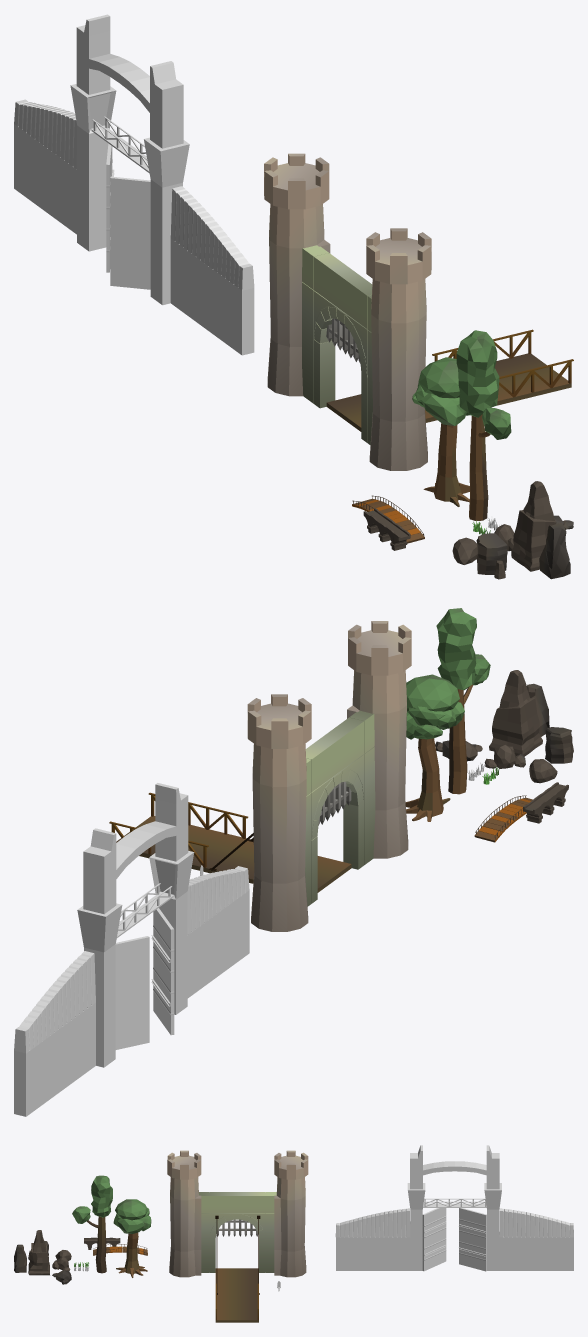
The model's file is AssetsV1.fbx.
3 views of the same model, one above another, from view 1: azimuth 30°, elevation 25°; view 2: azimuth 150°, elevation 25°; view 3: azimuth 270°, elevation 25° (orthographic). The views are drawn at different scales.
Parts seen in each view (by area): view 1: Cylinder, Cube.003, Cube.010, Cube, Cube.011, Plane.001, Icosphere.008, Plane, Cube.062, Cylinder.003, Cylinder.002, Cube.028 (+9 smaller); view 2: Cylinder, Cube.003, Cube.010, Cube, Cube.011, Plane.004, Plane, Cube.062, Icosphere.008, Plane.001, Icosphere, Cylinder.002 (+7 smaller); view 3: Cylinder, Cube.010, Cube.003, Cube, Cube.011, Plane, Plane.004, Plane.001, Icosphere.008, Cube.062, Icosphere, Cylinder.003 (+8 smaller).
Part boxes in pixels (x1,y1,x2,y2): Cylinder: [264, 153, 431, 470]; Cube.003: [70, 14, 189, 305]; Cube.010: [14, 124, 254, 355]; Cube: [302, 245, 372, 445]; Cube.011: [14, 99, 254, 290]; Plane.001: [110, 176, 150, 289]; Icosphere.008: [456, 330, 499, 417]; Plane: [326, 353, 571, 431]; Cube.062: [511, 481, 556, 571]; Cylinder.003: [469, 414, 488, 520]; Cylinder.002: [434, 423, 461, 501]; Cube.028: [432, 329, 573, 397]; Cylinder: [247, 621, 411, 931]; Cube.003: [77, 783, 194, 1067]; Cube.010: [14, 890, 249, 1116]; Cube: [305, 710, 375, 906]; Cube.011: [14, 866, 249, 1053]; Plane.004: [115, 936, 149, 1049]; Plane: [116, 816, 351, 892]; Cube.062: [489, 670, 542, 756]; Icosphere.008: [436, 608, 476, 690]; Plane.001: [151, 908, 174, 1035]; Icosphere: [406, 674, 459, 711]; Cylinder.002: [417, 738, 443, 816]; Cylinder: [167, 1150, 308, 1277]; Cube.010: [336, 1236, 573, 1270]; Cube.003: [407, 1145, 501, 1270]; Cube: [199, 1192, 276, 1272]; Cube.011: [335, 1208, 573, 1237]; Plane: [215, 1268, 258, 1322]; Plane.004: [459, 1208, 486, 1271]; Plane.001: [422, 1208, 446, 1271]; Icosphere.008: [91, 1175, 112, 1217]; Cube.062: [28, 1230, 49, 1275]; Icosphere: [115, 1199, 148, 1220]; Cylinder.003: [95, 1216, 106, 1273].
Bounding box in the file's own units: 1468 × 1092 × 4508.
1 material, 1 textured.
